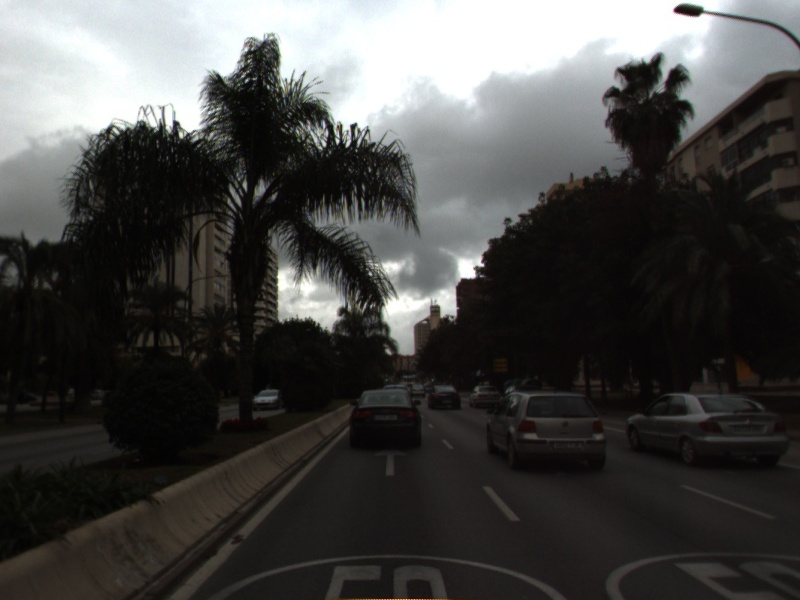STRAIGHT: (371, 446, 409, 478)
